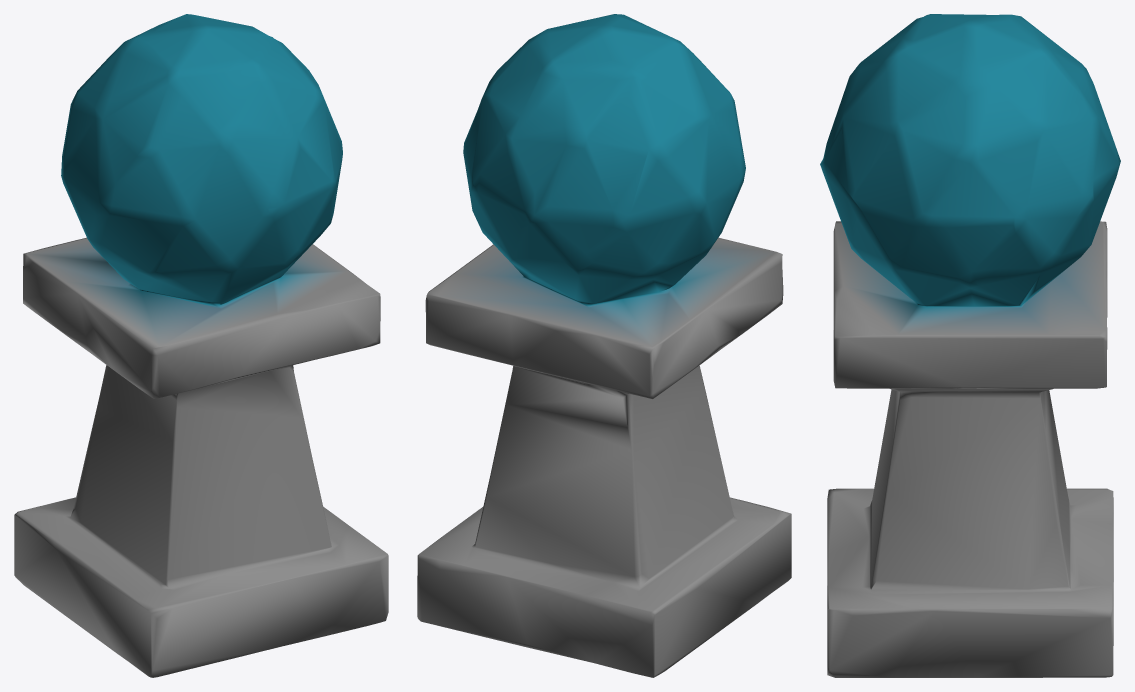
File: gen3d-orb-pedestal-lod1.glb
3 renders of one model, left to right at view 1: azimuth 30°, elevation 25°; view 2: azimuth 150°, elevation 25°; view 3: azimuth 270°, elevation 25°, orthographic. The views are drawn at different scales.
Parts seen in each view (by area): view 1: part_0; view 2: part_0; view 3: part_0.
Boxes of the visible parts, left/top/right/bottom form: part_0: left=14, top=14, right=388, bottom=677; part_0: left=417, top=14, right=791, bottom=677; part_0: left=820, top=14, right=1120, bottom=677.
Size of the model in its own units: 0.4378 by 0.9971 by 0.4575.
